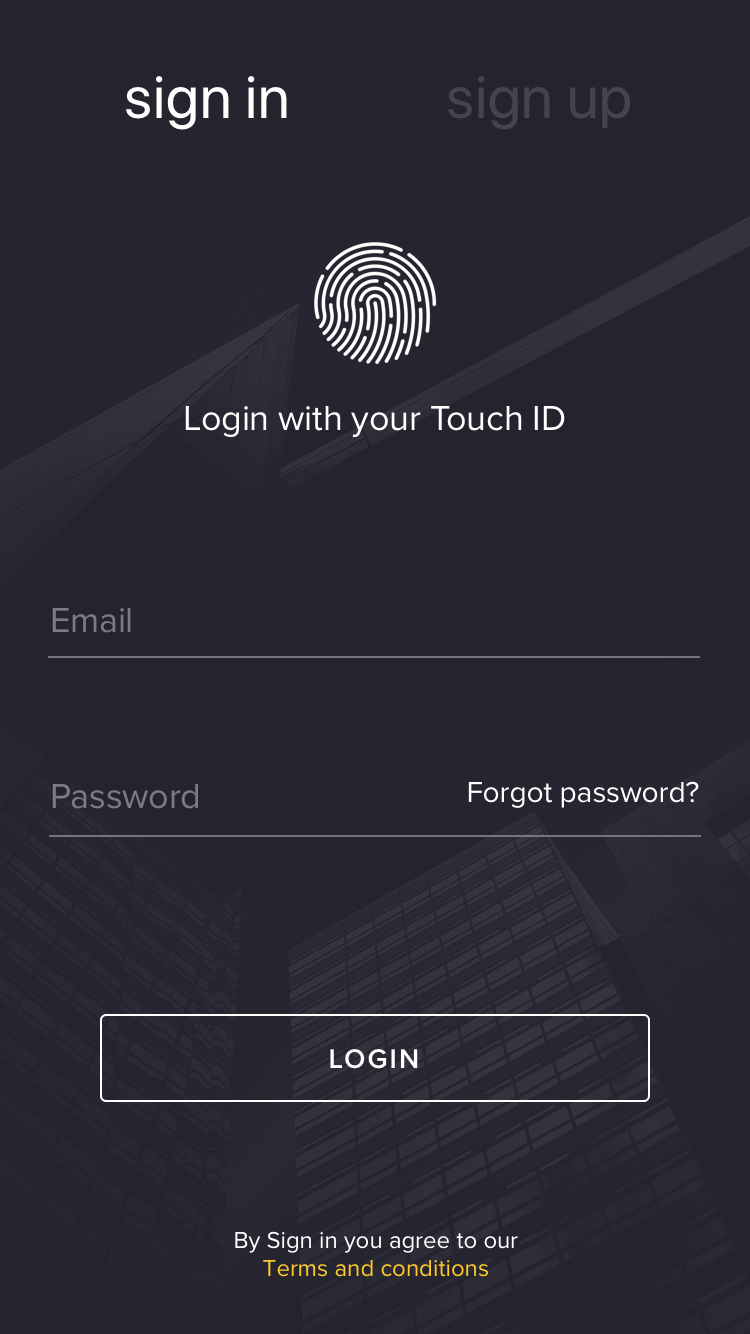BackgroundImage: (1, 1, 750, 1334)
EditText: (49, 781, 702, 838), (49, 608, 701, 659)
Image: (313, 242, 438, 366)
Text: (235, 1231, 519, 1278), (185, 405, 566, 439), (447, 75, 632, 132), (126, 76, 288, 132), (468, 781, 700, 809), (52, 783, 199, 809), (52, 608, 132, 634)
TextButton: (100, 1014, 651, 1103)
